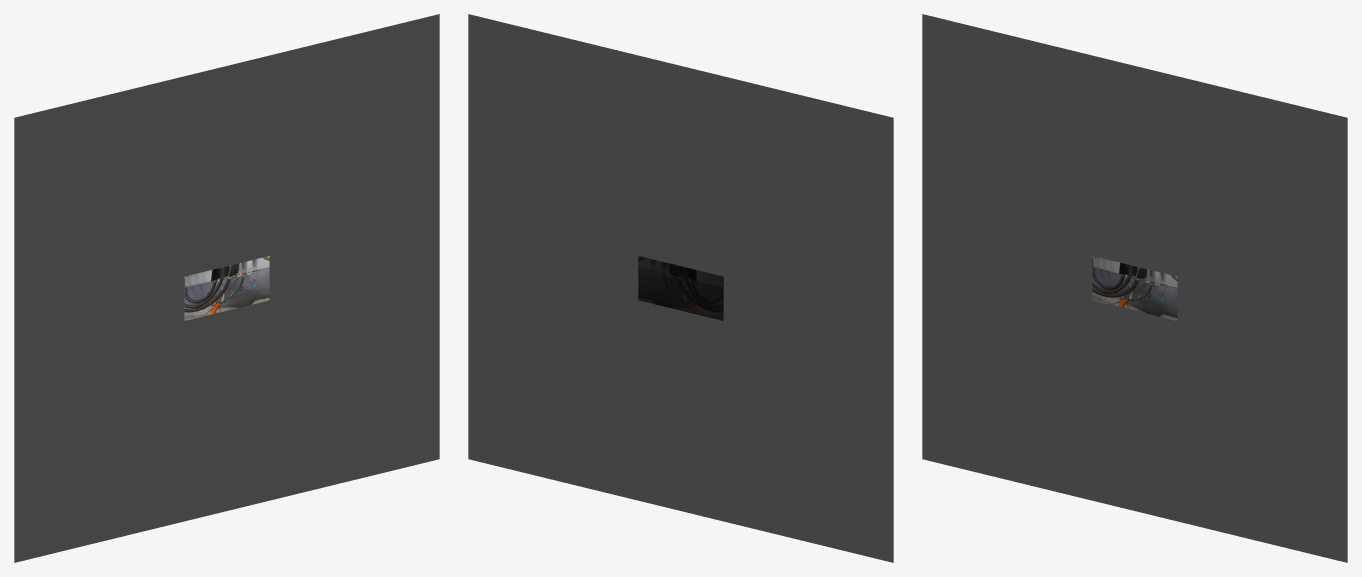
The model's file is wiring-03-final.glb.
The picture shows the model from 3 angles, left to right: view 1: azimuth 30°, elevation 25°; view 2: azimuth 150°, elevation 25°; view 3: azimuth 330°, elevation 25°; orthographic projection.
Parts seen in each view (by area): view 1: background, wiring-03; view 2: background, wiring-03; view 3: background, wiring-03.
Part boxes in pixels (left/top/right/bottom): background: left=14, top=14, right=439, bottom=562; wiring-03: left=184, top=256, right=269, bottom=320; background: left=468, top=14, right=893, bottom=562; wiring-03: left=638, top=256, right=723, bottom=320; background: left=922, top=14, right=1347, bottom=562; wiring-03: left=1092, top=256, right=1177, bottom=320.
Size of the model in its own units: 10 by 10 by 0.001.
2 materials, 1 textured.
